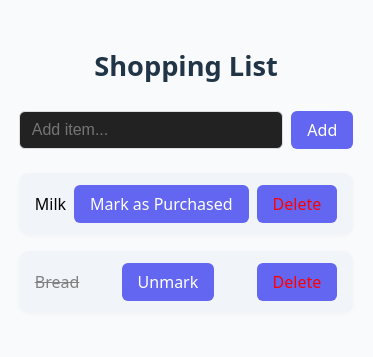
it: ShoppingList Integration › renders items from API and allows adding a new item
This screenshot has width=373, height=357.
Expected: the text "Milk" is shown, [35,192,66,216]
Expected: the text "Bread" is shown, [35,270,79,294]
Type "Eggs" into the field with placeholder "Add item..." at (151, 130), box [19,111,283,149]
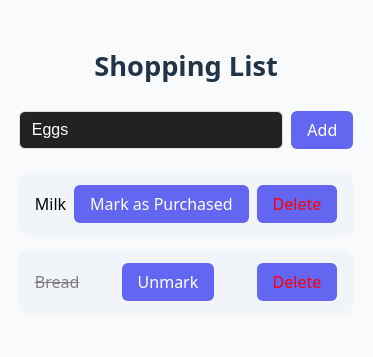
Click the button "Add" at (322, 130), box [291,111,353,149]
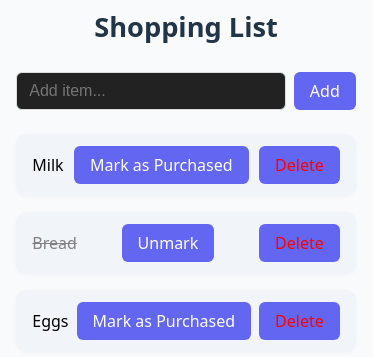
Result: the text "Eggs" is shown at [32,309,69,333]
